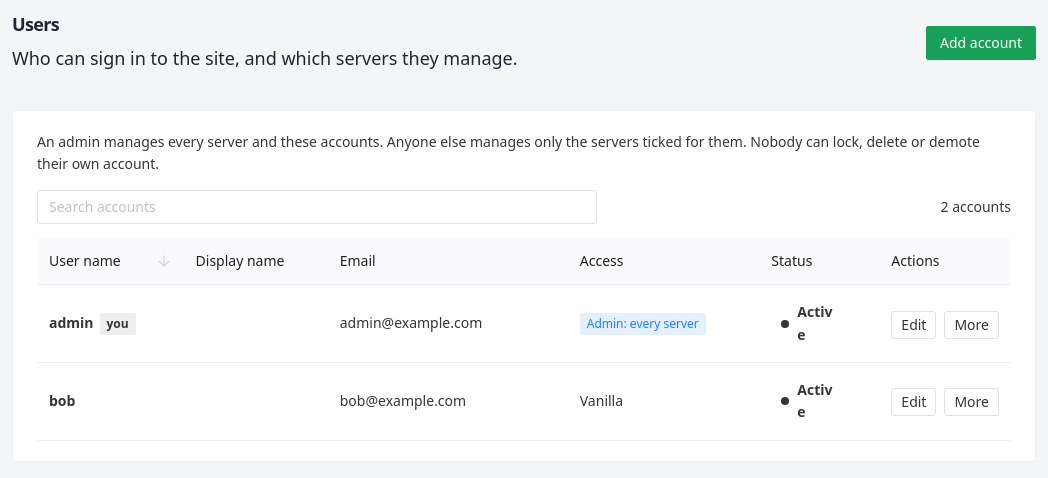
Test case: UsersView › locks an account and shows it
Click the button "More" in the row of "bob@example.com" at point(972, 402), box [944,388,999,416]
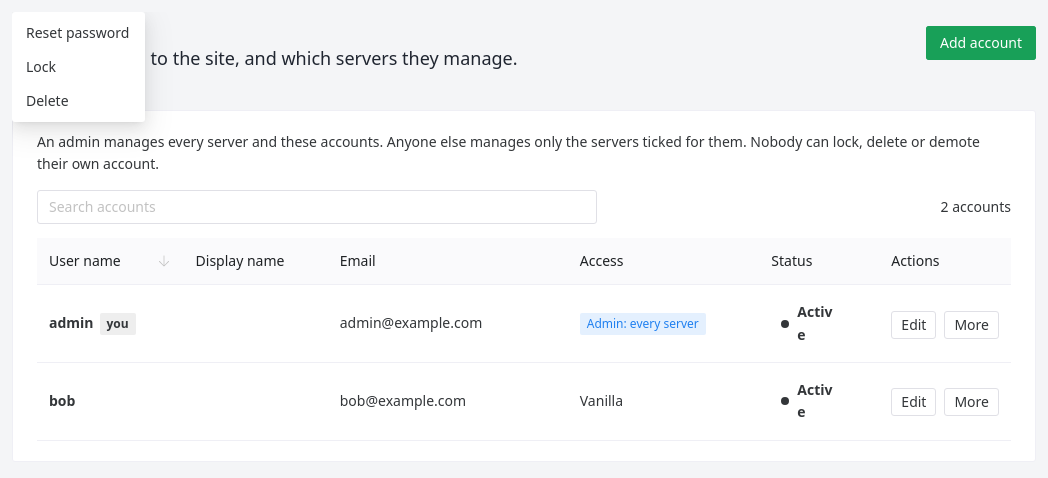
Click the element with class "n-dropdown-option-body" showing "Lock" at point(41, 66), box [26,57,56,76]
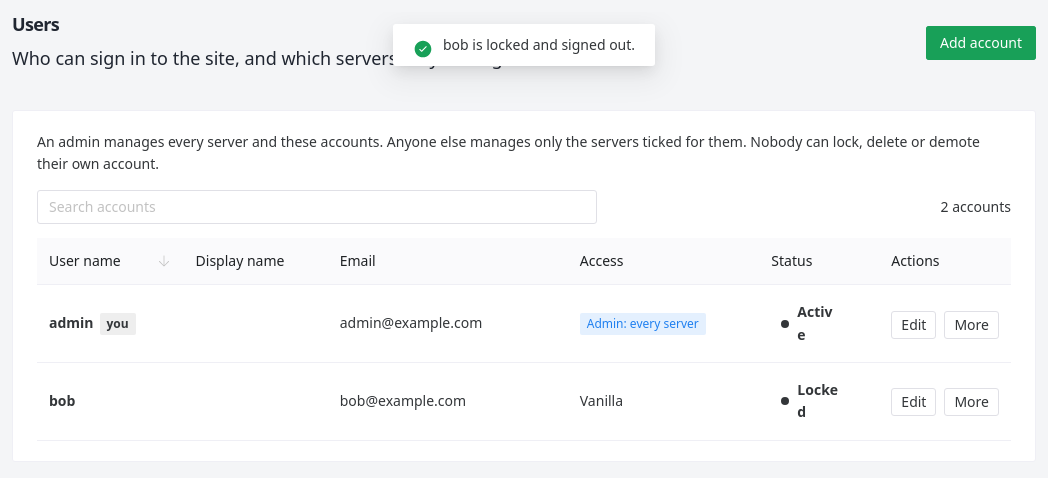
Expected: the row "bob bob@example.com Vanilla Locked Edit More" is shown, [37,363,1011,441]
Click the button "More" in the row of "bob@example.com" at point(972, 402), box [944,388,999,416]
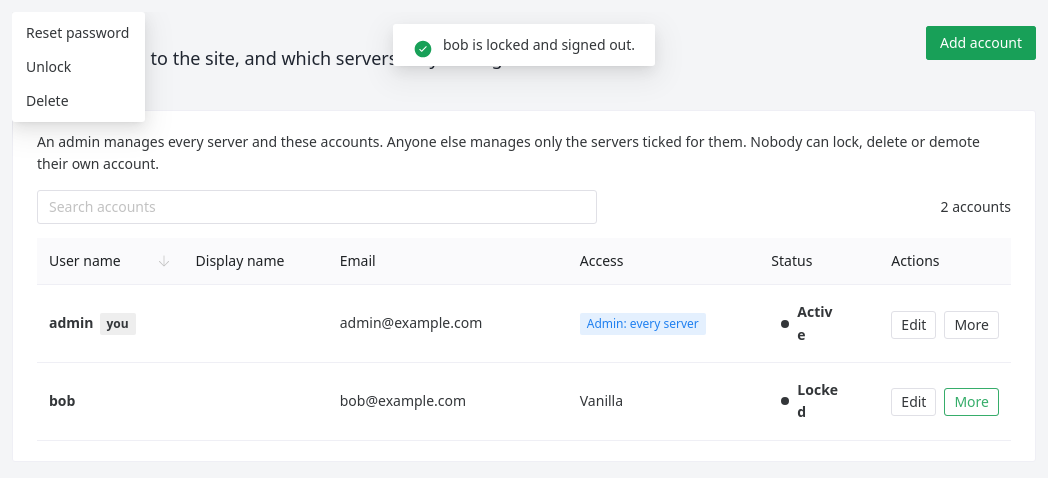
Expected: the element with class "n-dropdown-option-body" showing "Unlock" is shown, [26,57,71,76]
